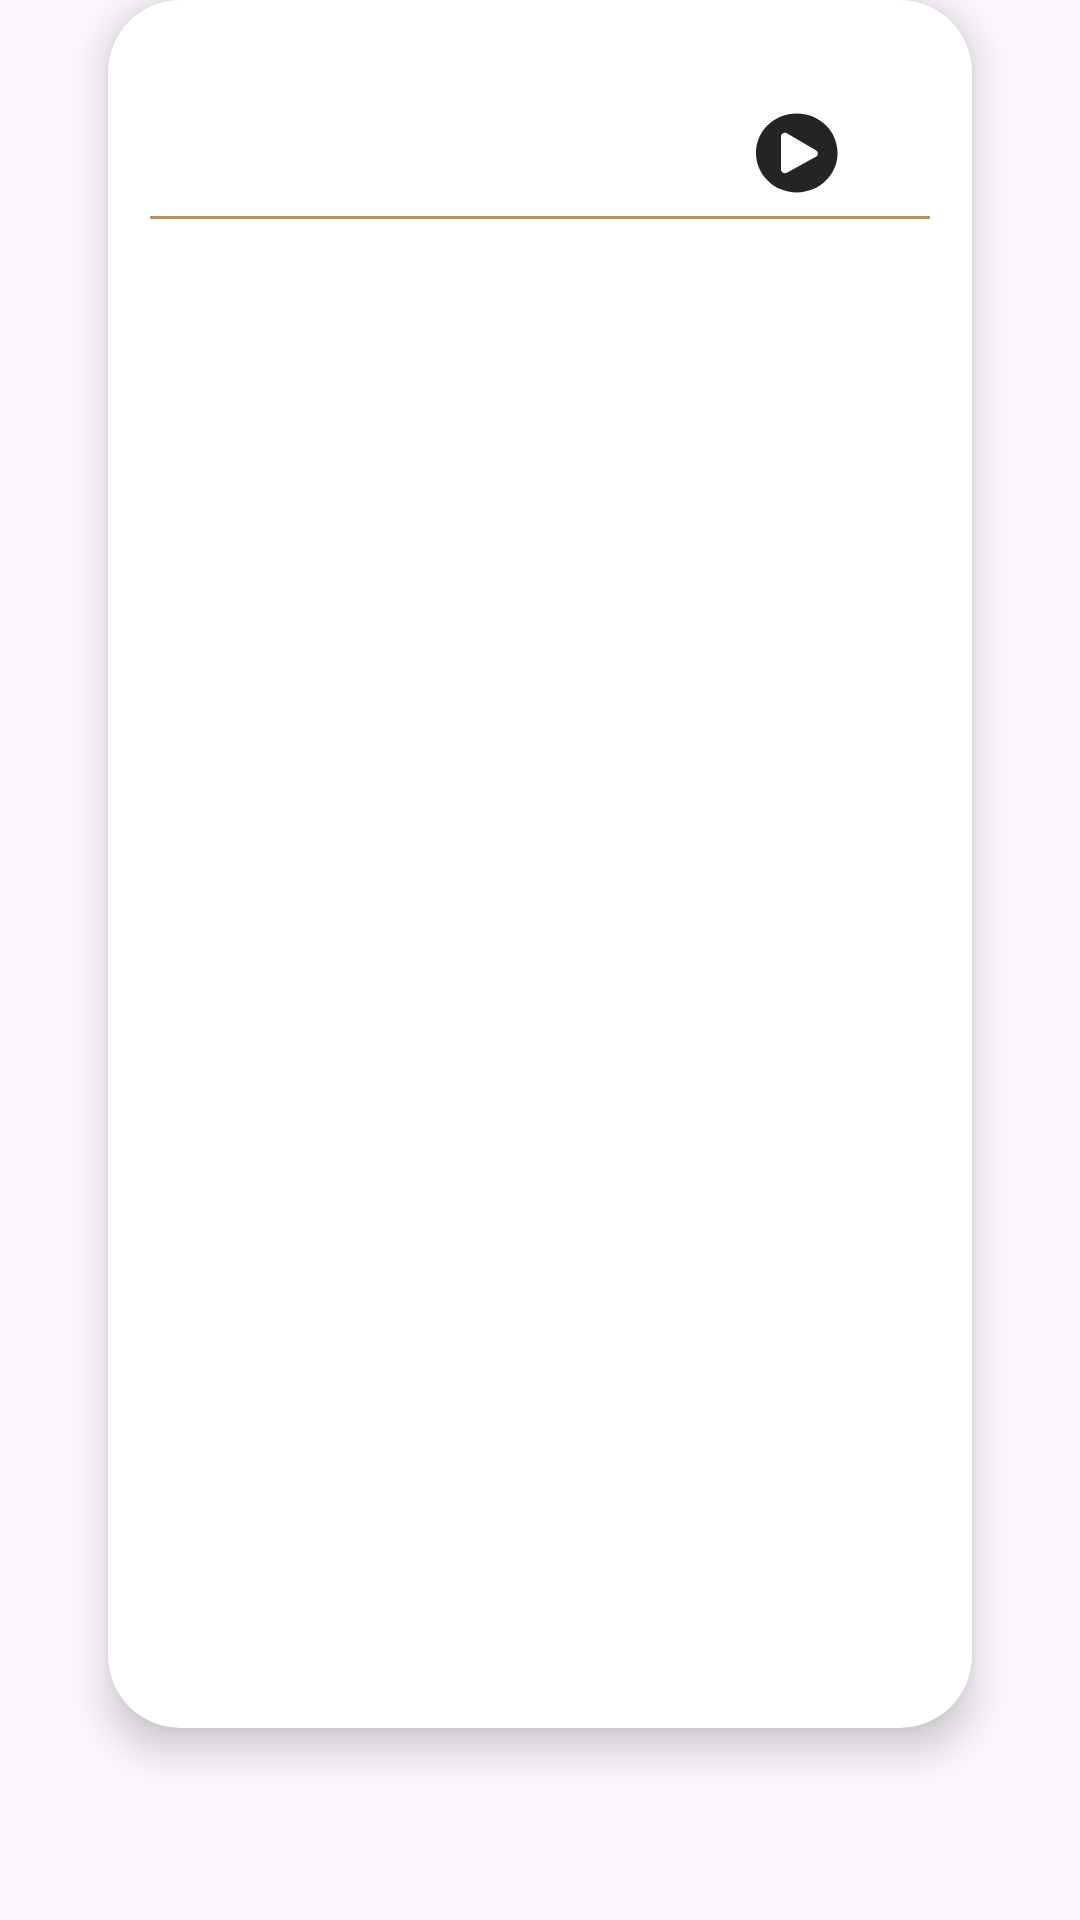

Icons on this 1080px×1920px Android screen, each with its box as box(x1, y1, x2, y2):
chapter play: box(756, 113, 838, 193)
